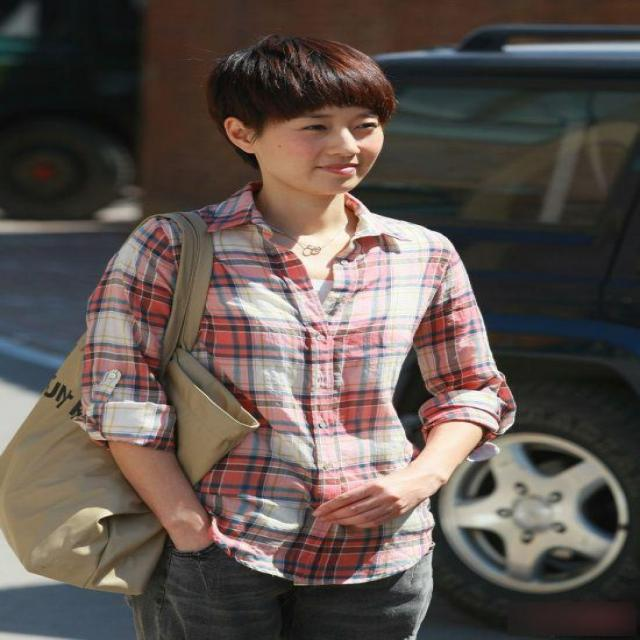Manusia: (166, 28, 451, 634)
